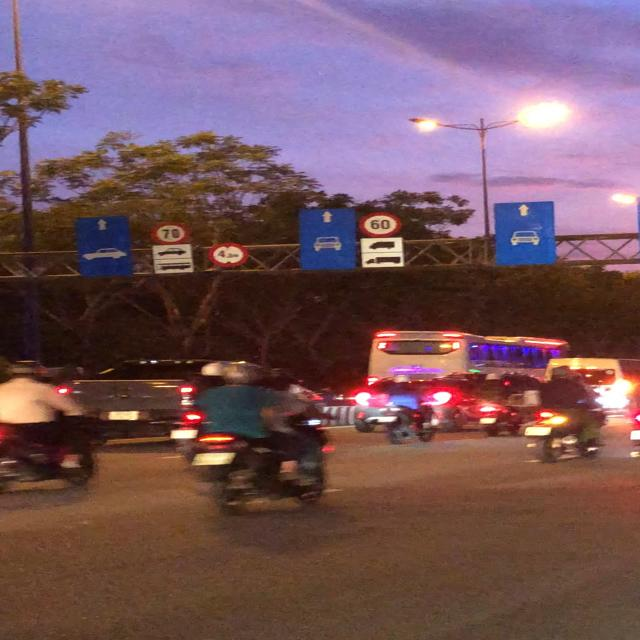Bien bao han che chieu cao: (206, 241, 257, 267)
Bien bao toc do toi da cho phep: (357, 212, 405, 241), (146, 219, 193, 243)
